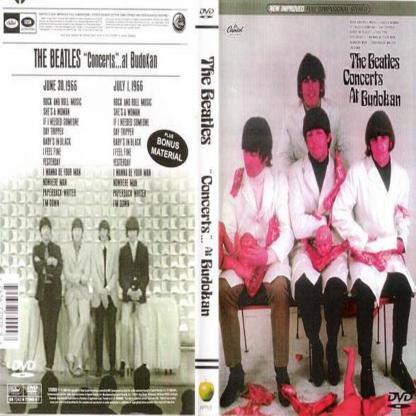face: (307, 130, 327, 161), (244, 150, 264, 177), (371, 137, 390, 163), (303, 80, 320, 108), (128, 231, 138, 243), (43, 226, 51, 240), (74, 229, 82, 242), (100, 229, 108, 241)
